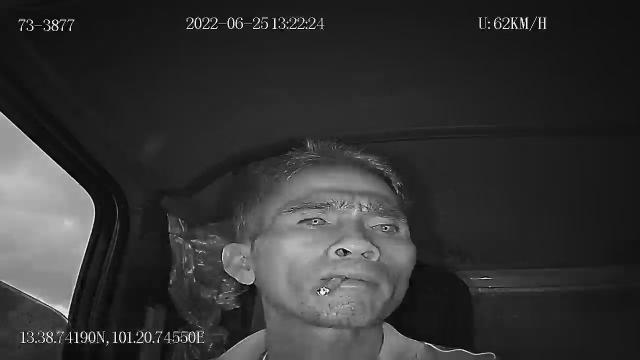SafeDriving: (288, 207, 336, 234), (359, 214, 408, 238)
Smoking: (317, 276, 349, 298)
